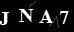7: (58, 10, 70, 25)
A: (38, 9, 54, 24)
J: (1, 11, 10, 26)
N: (18, 8, 34, 23)
